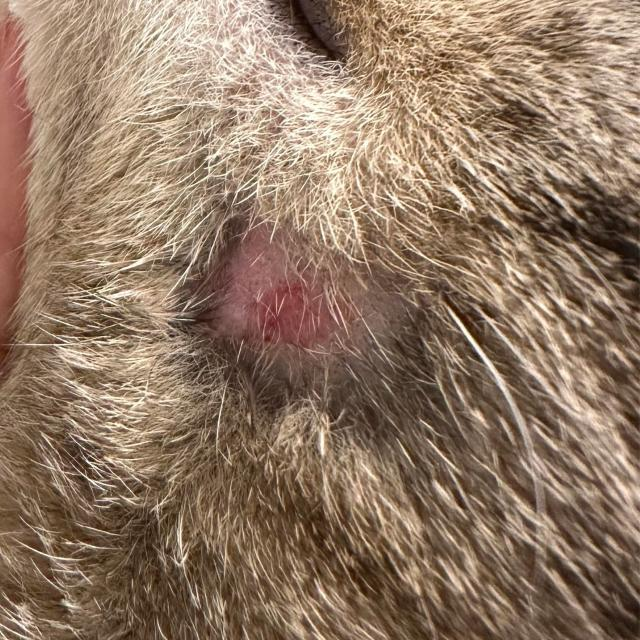cat-ringworm: (134, 135, 488, 470)
